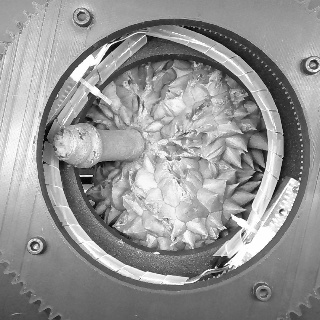base: (122, 126, 150, 167)
end: (52, 128, 76, 159)
